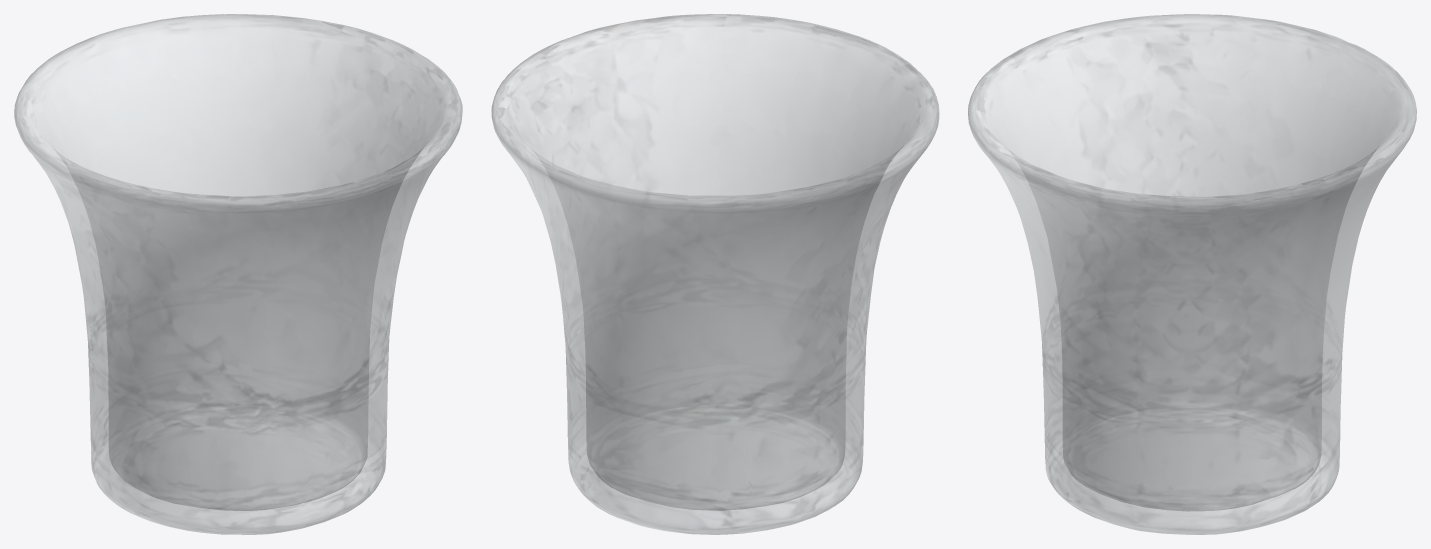
The model's file is upm_mv3pqbql1mo.glb.
3 renders of one model, left to right at view 1: azimuth 30°, elevation 25°; view 2: azimuth 150°, elevation 25°; view 3: azimuth 270°, elevation 25°, orthographic.
Bounding box in the file's own units: 1.9 × 1.75 × 1.9.
1 material, 1 textured.
